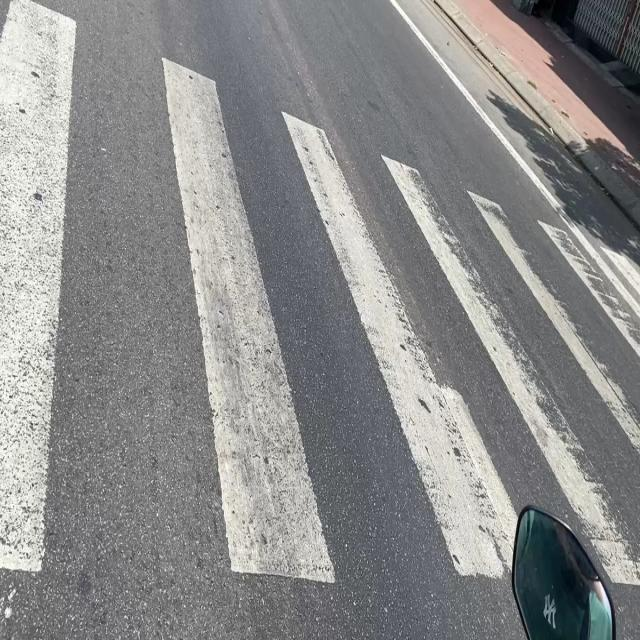walk-crossing: (3, 11, 640, 512)
